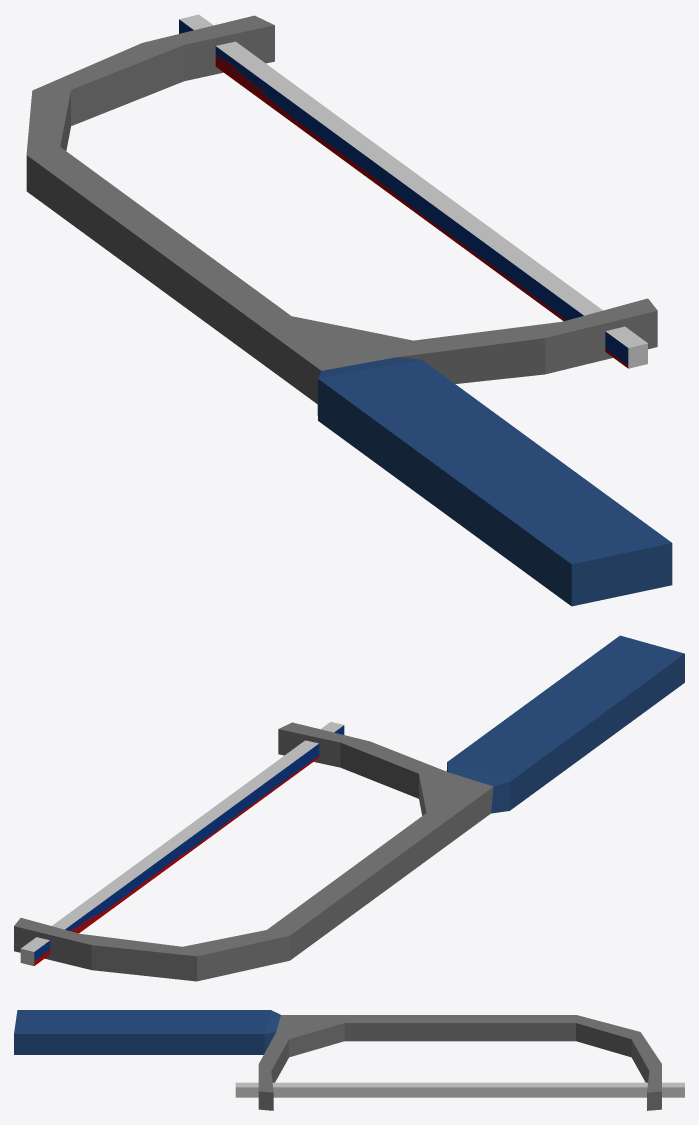
Rendered from Handzaag.fbx.
The picture shows the model from 3 angles, top to bottom: view 1: azimuth 30°, elevation 25°; view 2: azimuth 150°, elevation 25°; view 3: azimuth 270°, elevation 25°; orthographic projection. The views are drawn at different scales.
Parts seen in each view (by area): view 1: pCube5; view 2: pCube5; view 3: pCube5.
Boxes of the visible parts, box(x1,y1,x2,y2) form: pCube5: box(26, 14, 672, 606); pCube5: box(14, 635, 684, 981); pCube5: box(14, 1010, 684, 1110).
Bounding box in the file's own units: 2.06 × 0.2488 × 7.18.
